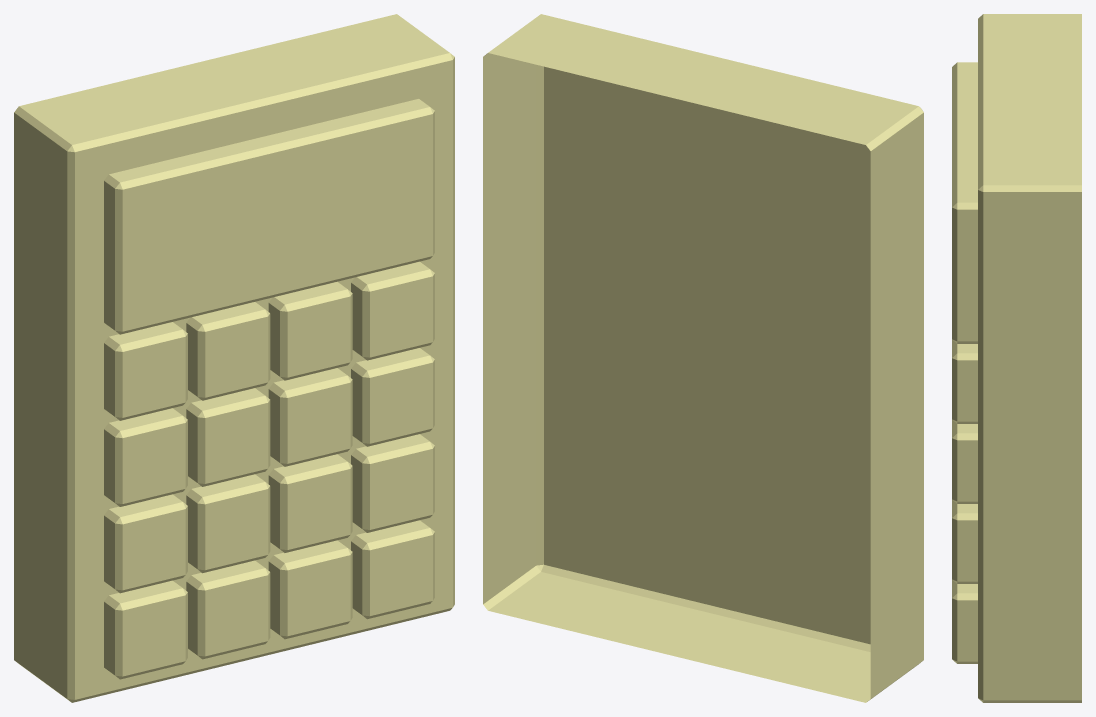
Rendered from Door Control.glb.
3 renders of one model, left to right at view 1: azimuth 30°, elevation 25°; view 2: azimuth 150°, elevation 25°; view 3: azimuth 270°, elevation 25°, orthographic. The views are drawn at different scales.
Visible parts, largest first — view 1: Door Control; view 2: Door Control; view 3: Door Control.
Boxes of the visible parts, x1=… form: Door Control: x1=14, y1=14, x2=454, y2=702; Door Control: x1=483, y1=14, x2=923, y2=702; Door Control: x1=952, y1=14, x2=1081, y2=702.
Bounding box in the file's own units: 0.16 × 0.22 × 0.05.
